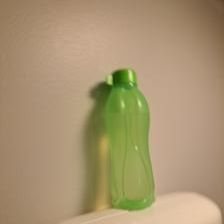bottle: (101, 65, 158, 211)
